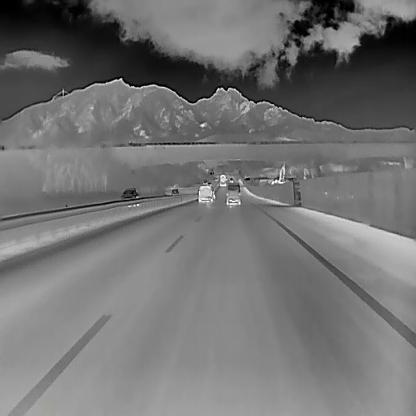car: (119, 187, 139, 207), (225, 181, 240, 205), (198, 184, 211, 202), (169, 186, 179, 198), (210, 189, 215, 199), (228, 176, 234, 184), (202, 178, 206, 184), (207, 181, 211, 186)
truck: (219, 173, 226, 186)
